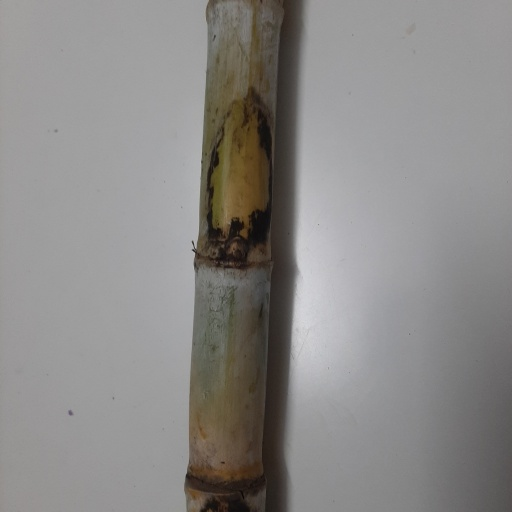Bud: (224, 235, 247, 264)
